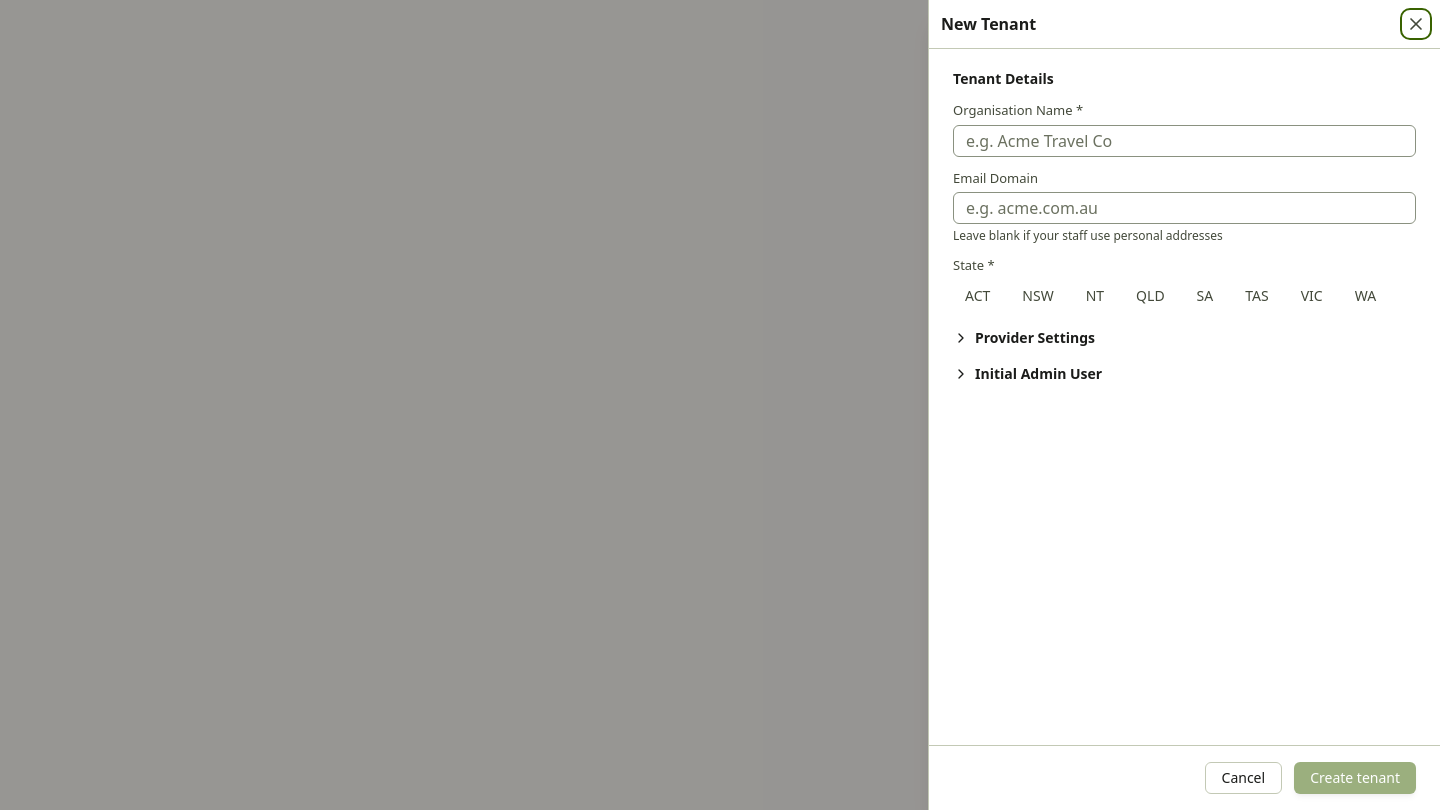
Test: TenantFormPanel: the first user's password › promises no email where Firebase is not configured (local dev auth)
Step 1. Type "Brightside Care" into the field with placeholder "e.g. Acme Travel Co" → point(1184, 140), box [953,124,1416,156]
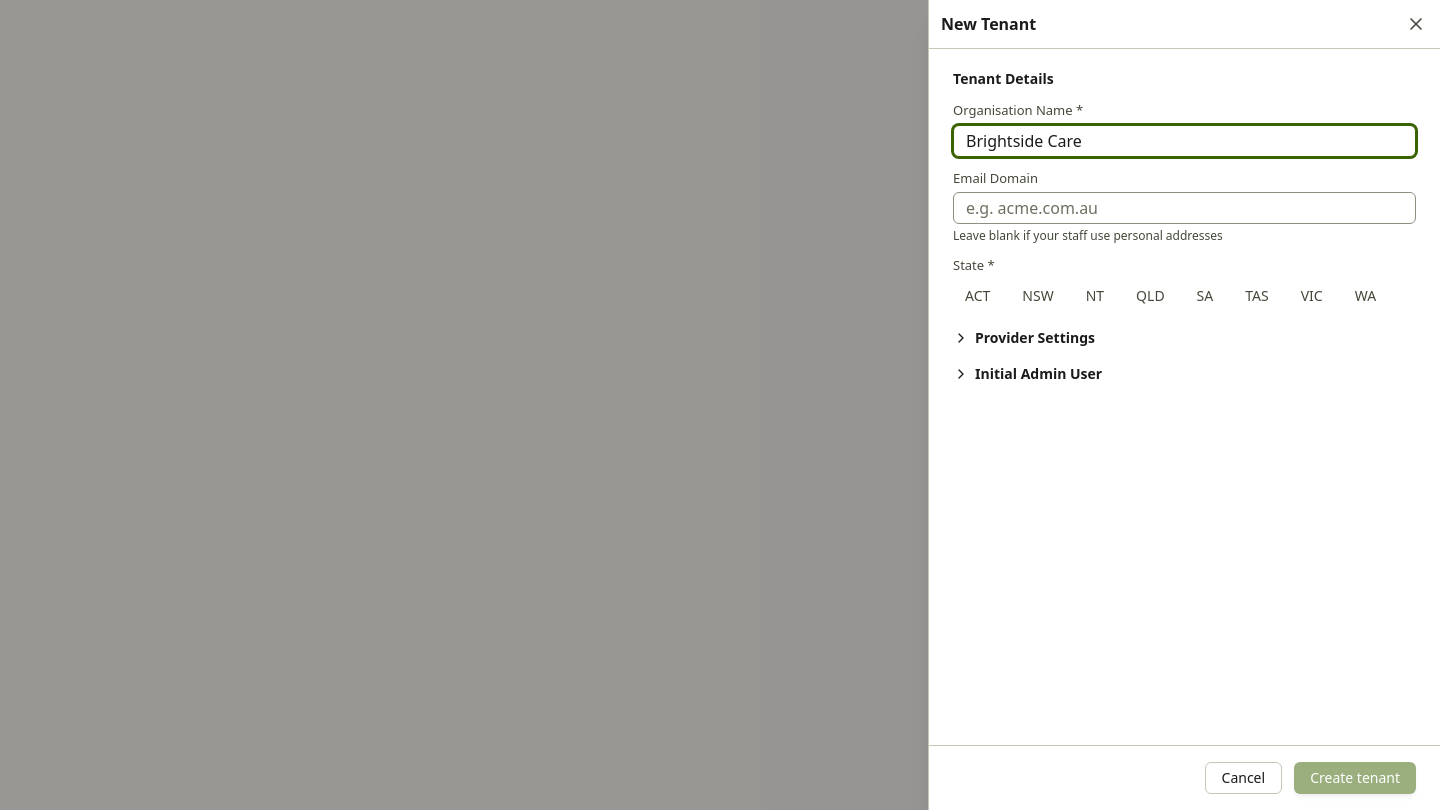
Step 2. Type "brightside.example.com" into the field with placeholder "e.g. acme.com.au" → point(1184, 208), box [953,192,1416,224]
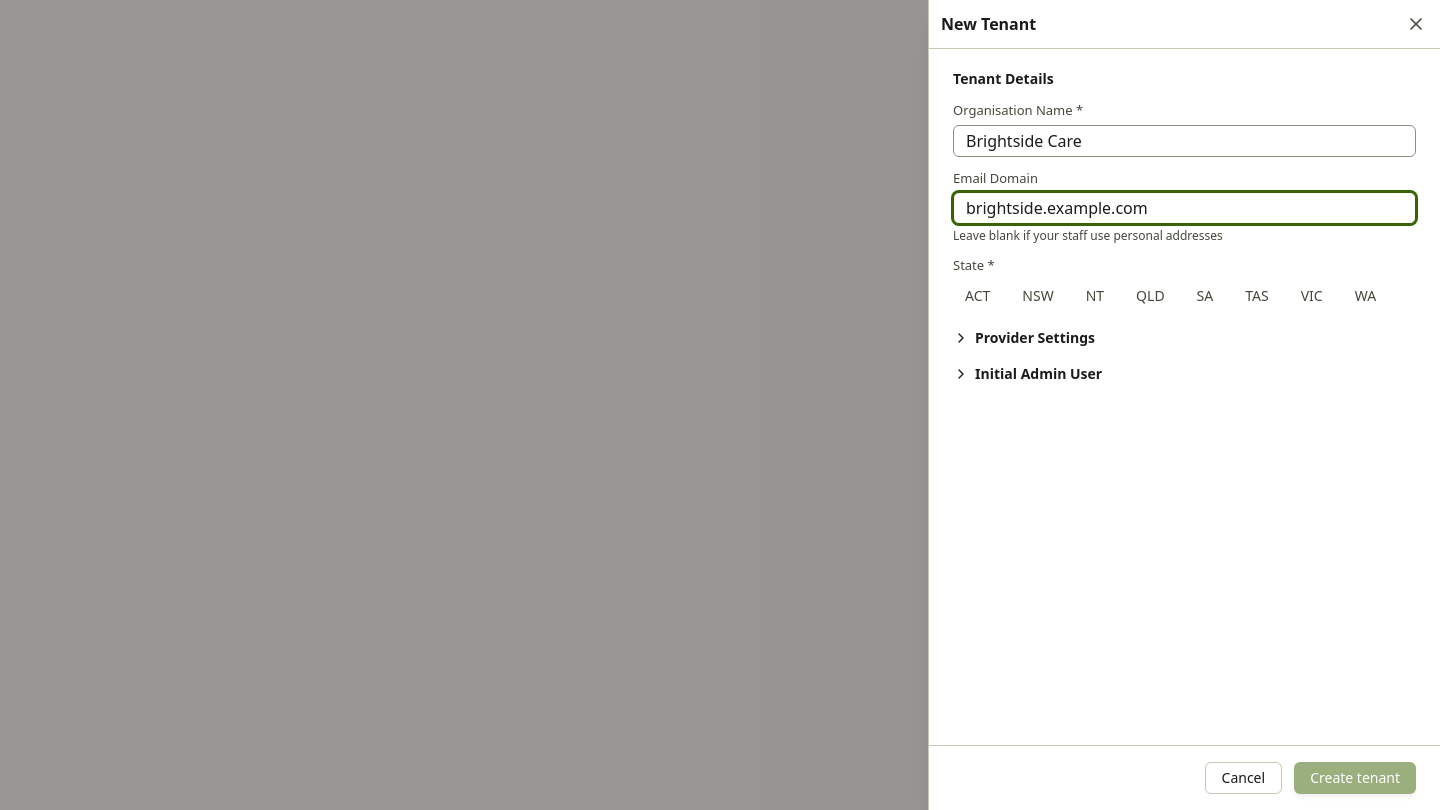
Step 3. Click the radio button labelled "NSW" → point(1038, 296), box [1010,280,1066,312]
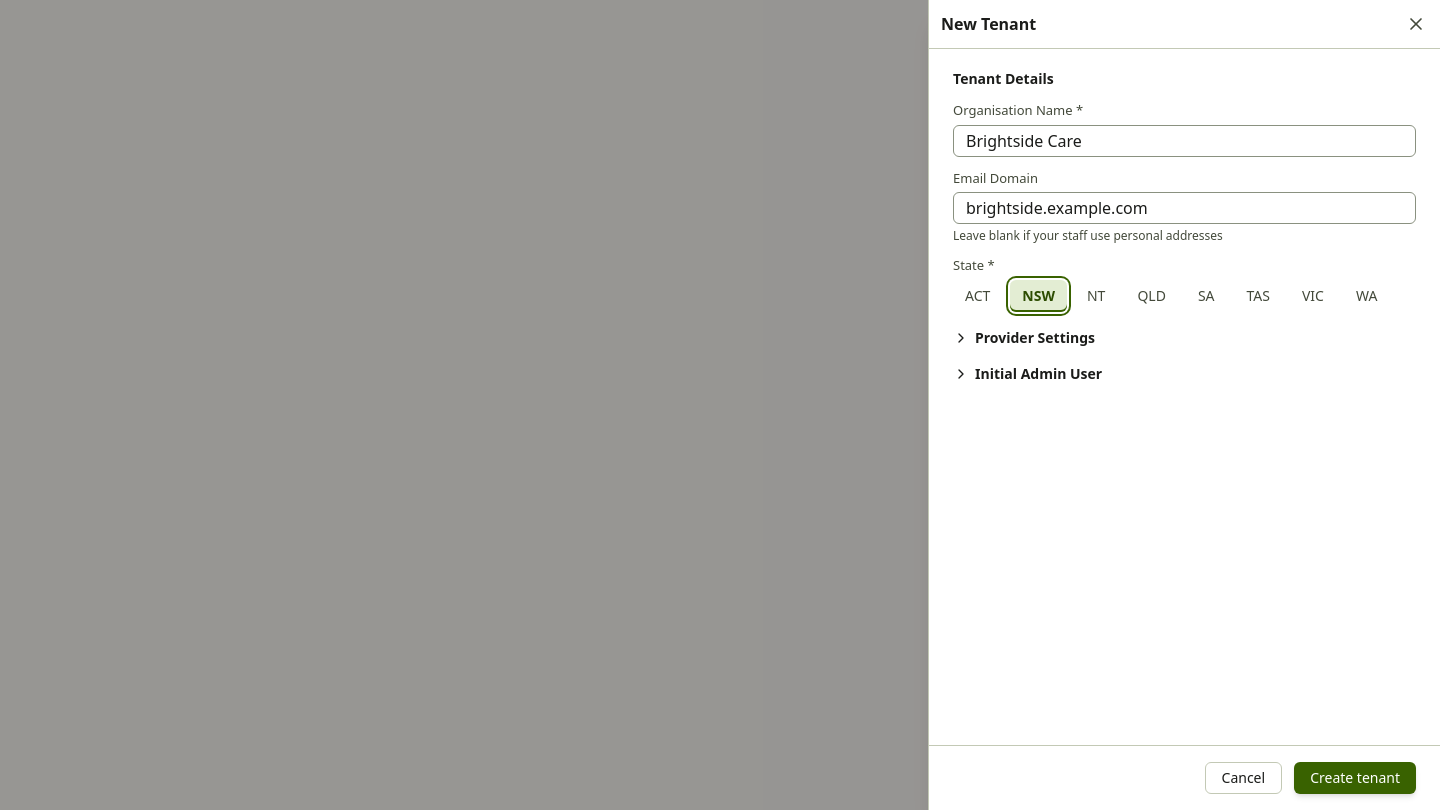
Step 4. Click the button "Initial Admin User" → point(1028, 374), box [953,364,1102,384]
(page scrolled)
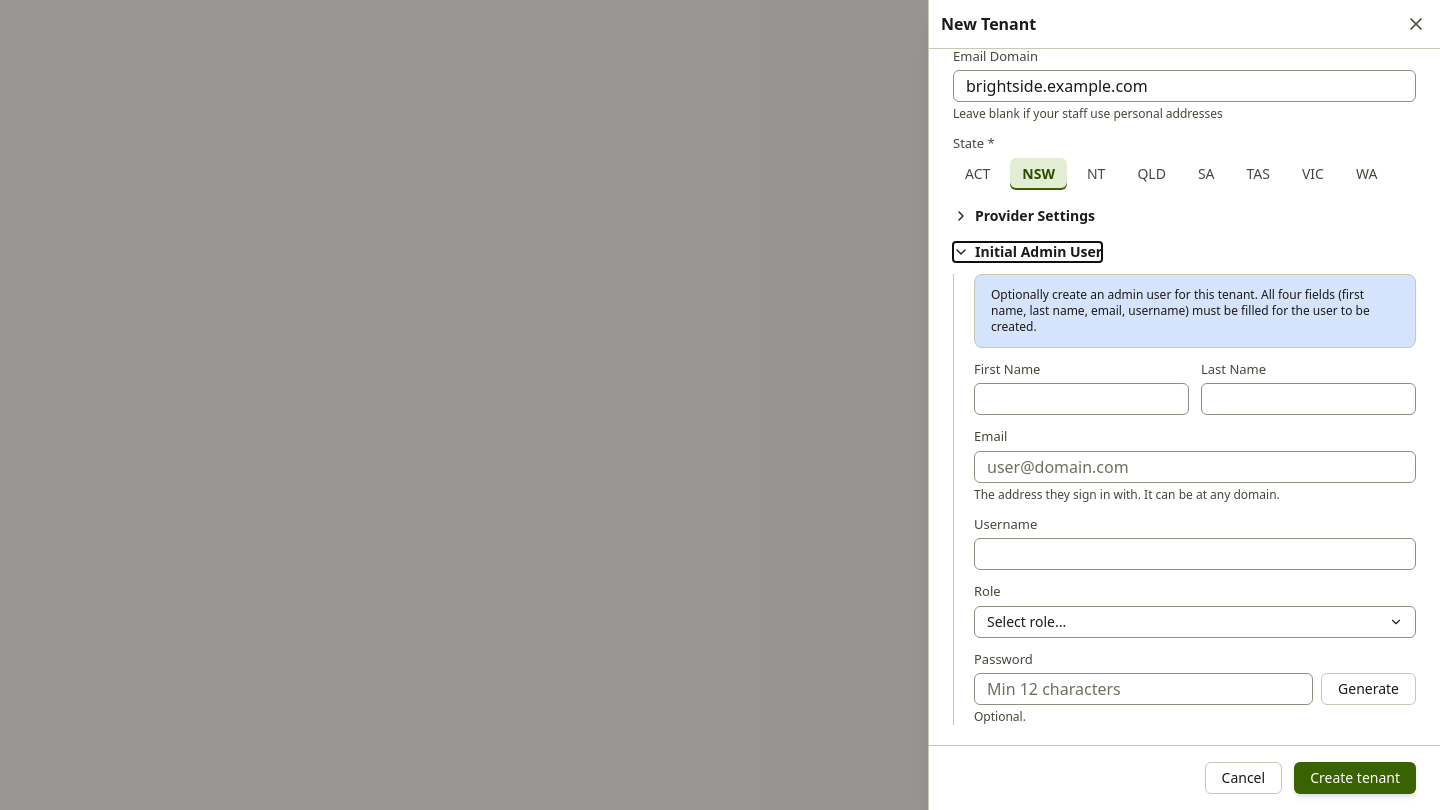
Now the text "Optional." is shown, box [974,708,1026,725]
